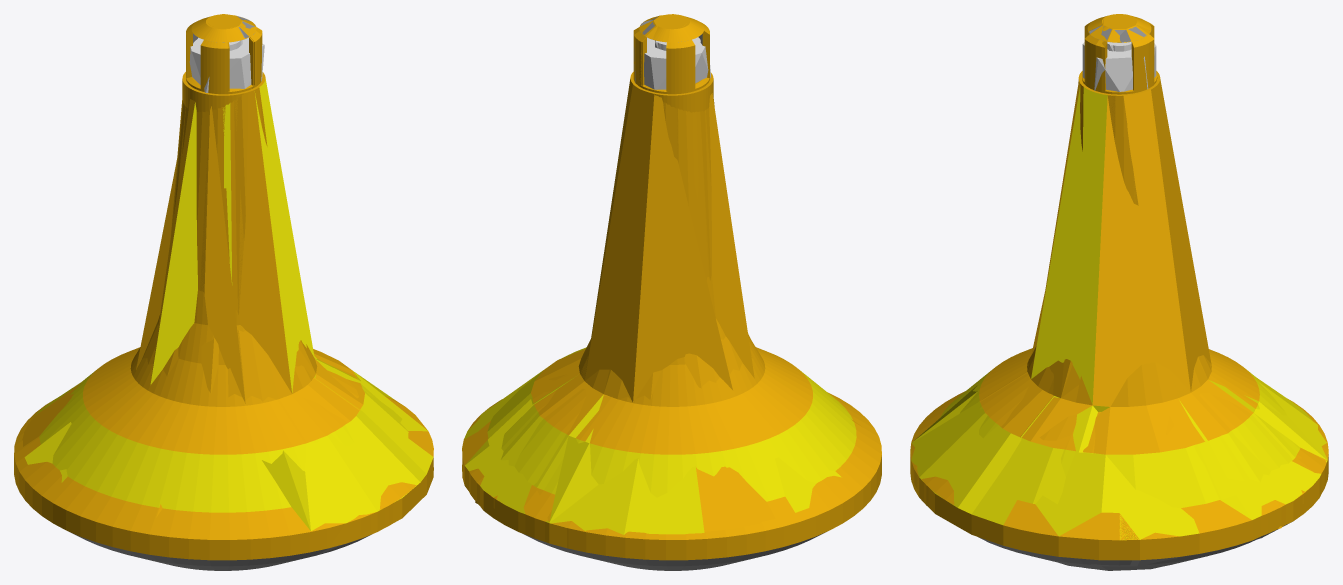
File: Buoys.fbx
3 renders of one model, left to right at view 1: azimuth 30°, elevation 25°; view 2: azimuth 150°, elevation 25°; view 3: azimuth 270°, elevation 25°, orthographic.
Parts seen in each view (by area): view 1: Base, Base.001, Base.003, Base.002, Top, Light.003, Top.001; view 2: Base, Base.003, Base.001, Base.002, Top, Light.003, Top.001; view 3: Base.001, Base.003, Base.002, Base, Top.001, Light.003, Top, Top.002.
Part boxes in pixels (left/top/right/bottom): Base: left=14, top=72, right=416, bottom=570; Base.001: left=22, top=72, right=433, bottom=531; Base.003: left=136, top=78, right=316, bottom=530; Base.002: left=24, top=95, right=427, bottom=555; Top: left=186, top=14, right=253, bottom=94; Light.003: left=189, top=37, right=264, bottom=92; Top.001: left=192, top=14, right=262, bottom=91; Base: left=469, top=72, right=881, bottom=570; Base.003: left=475, top=78, right=754, bottom=503; Base.001: left=462, top=72, right=775, bottom=543; Base.002: left=464, top=99, right=861, bottom=548; Top: left=641, top=14, right=709, bottom=94; Light.003: left=634, top=37, right=710, bottom=89; Top.001: left=633, top=14, right=703, bottom=91; Base.001: left=911, top=72, right=1327, bottom=570; Base.003: left=912, top=79, right=1282, bottom=539; Base.002: left=910, top=96, right=1328, bottom=565; Base: left=910, top=71, right=1328, bottom=570; Top.001: left=1082, top=15, right=1157, bottom=94; Light.003: left=1082, top=42, right=1156, bottom=91; Top: left=1082, top=14, right=1157, bottom=80; Top.002: left=1082, top=15, right=1156, bottom=92.
Size of the model in its own units: 103 by 135 by 102.
